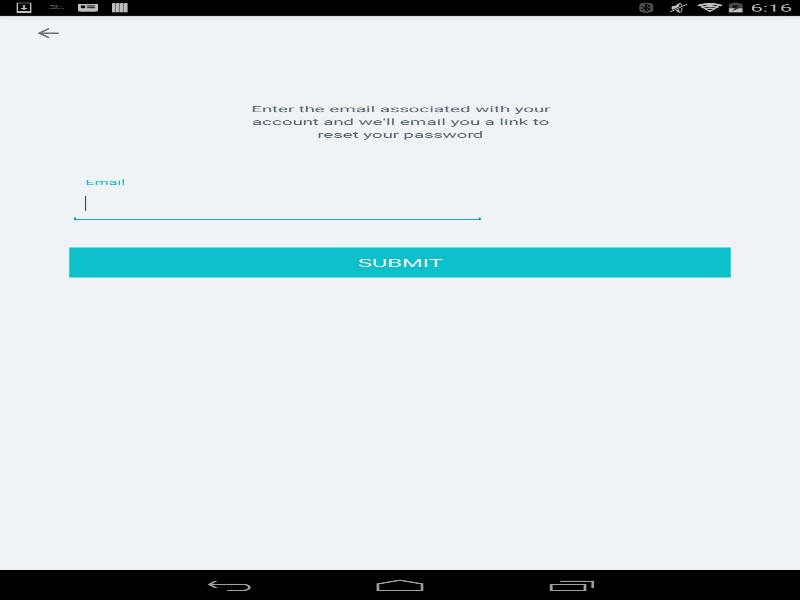Button: (69, 247, 730, 277), (10, 13, 85, 53)
Input: (69, 185, 485, 222)
